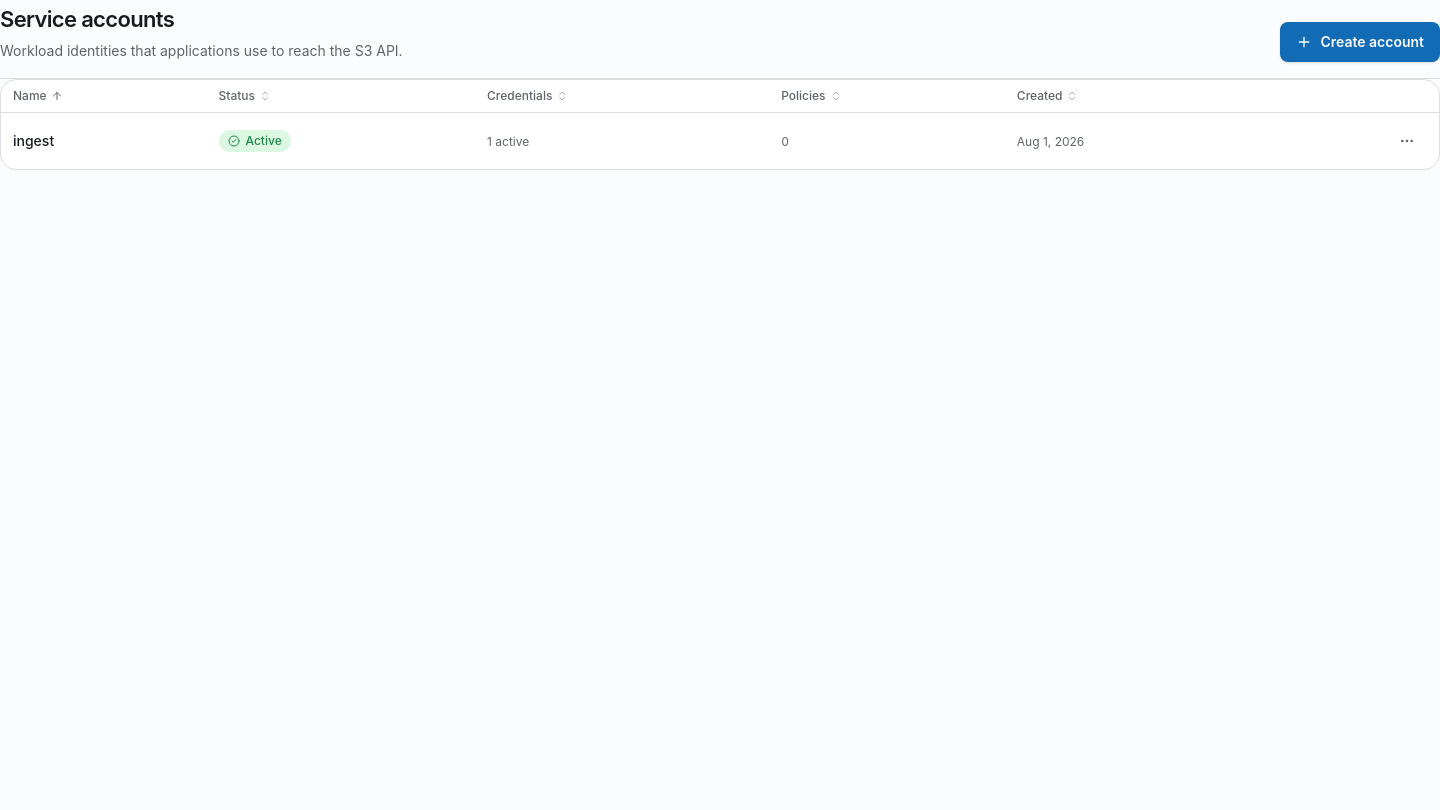
Test: temporary credentials › reveals the secret once and says it expires by itself
The width and height of the screenshot is (1440, 810).
Expected: the link "ingest" is shown, [13,132,54,149]
Click the button named "actions for ingest".
click(1407, 141)  # box [1387,121,1427,161]
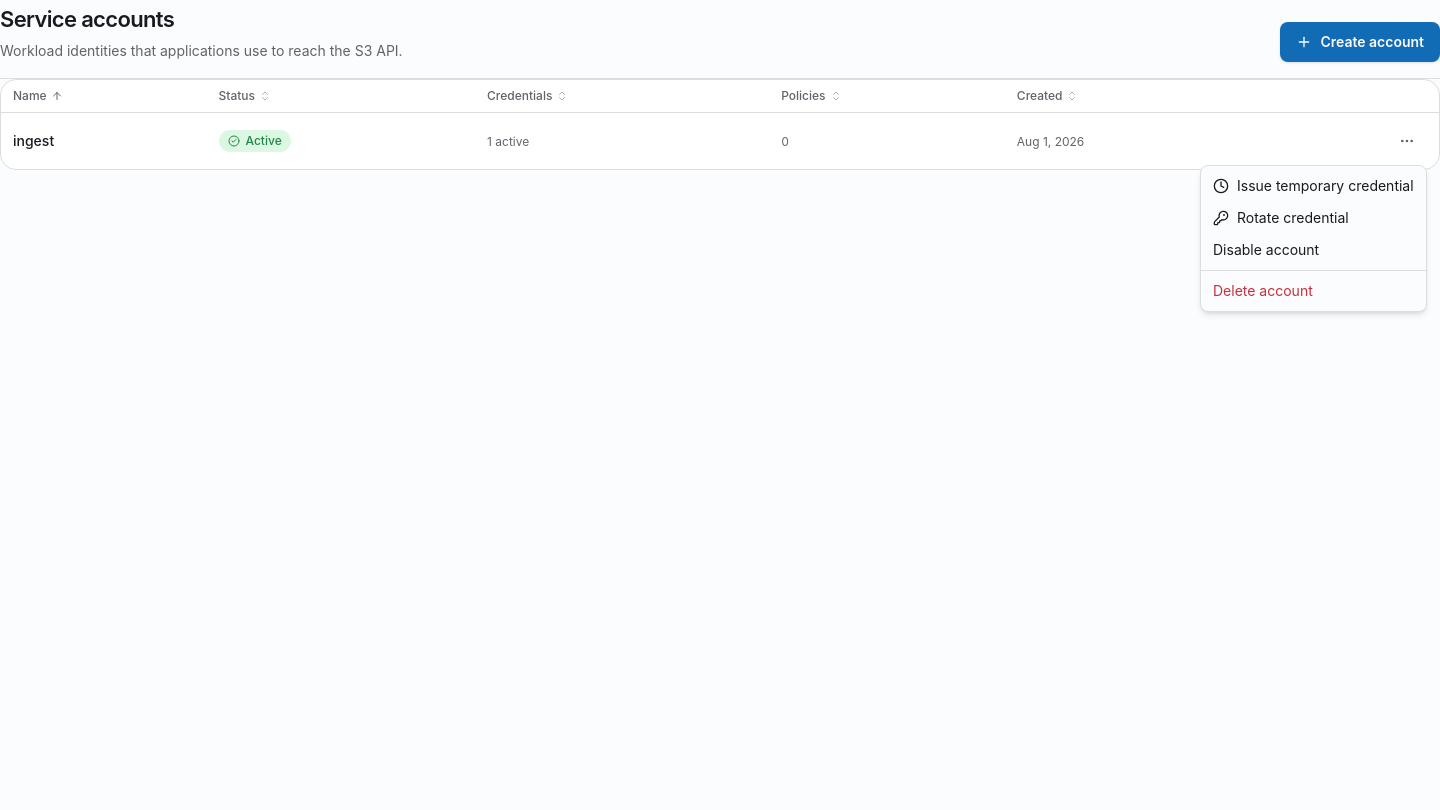
Click the menu item "Issue temporary credential".
click(1313, 186)  # box [1213,177,1414,194]
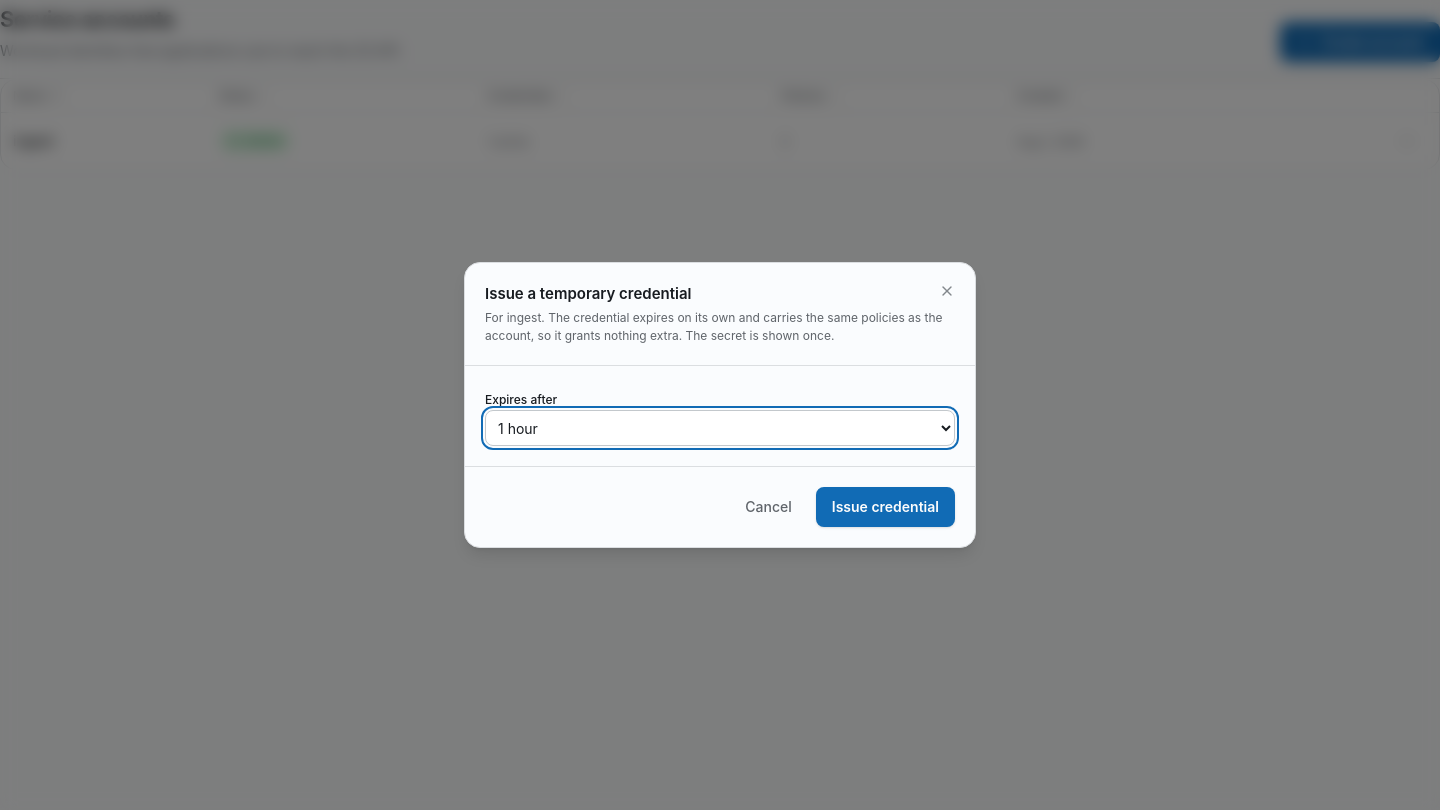
Click the button "Issue credential".
click(885, 507)  # box [816,487,955,527]
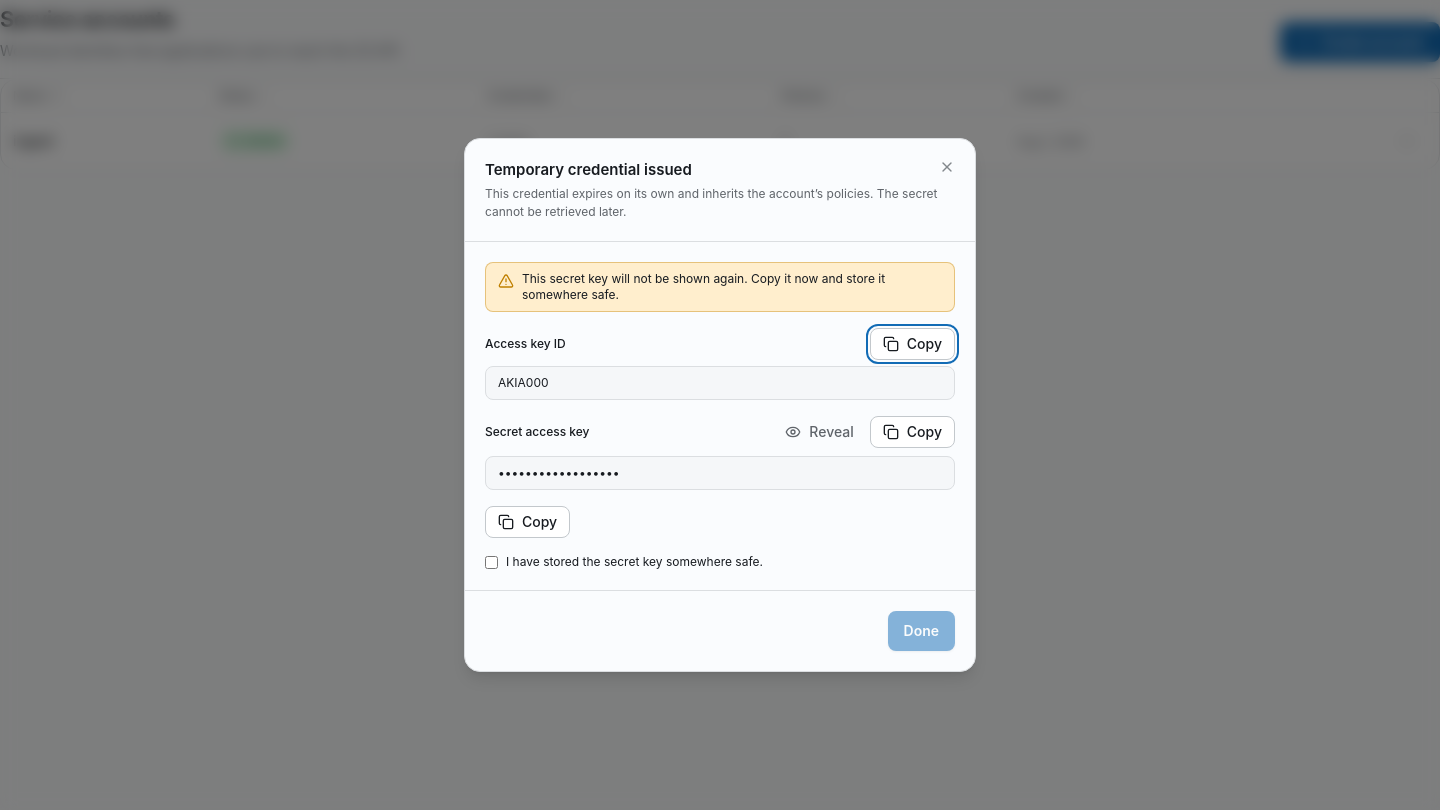
Now the heading "Temporary credential issued" is shown, box [485,160,692,179]
Now the text "expires on its own" is shown, box [485,186,938,219]
